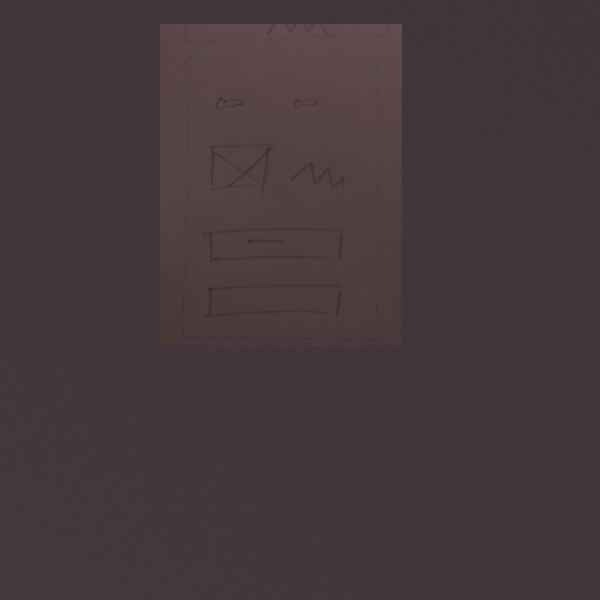button: (199, 226, 353, 267)
image: (203, 141, 278, 196)
switch: (210, 94, 251, 113), (288, 93, 328, 112)
text: (287, 156, 353, 194)
text_input: (198, 280, 352, 321)
